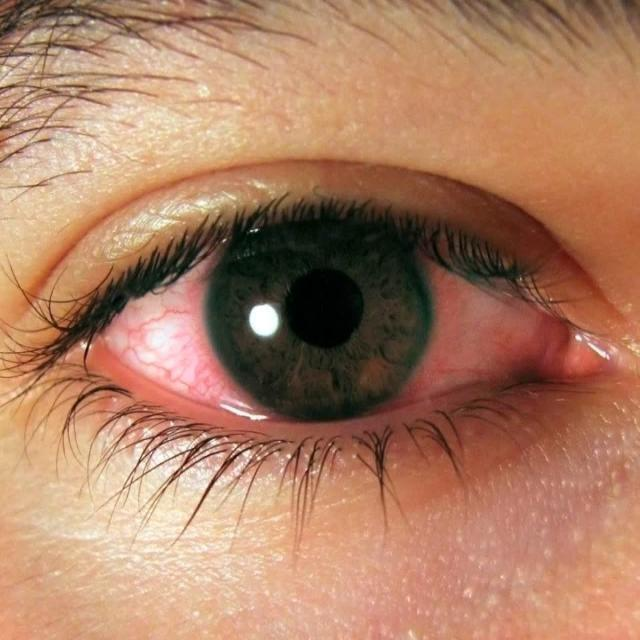Conjunctivitis: (84, 227, 612, 418)
